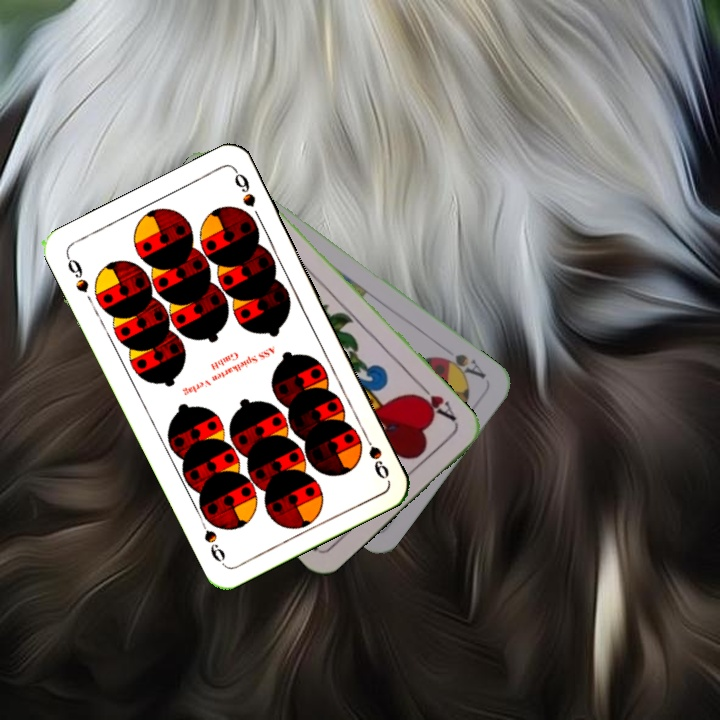HA: (410, 378, 459, 424)
S9: (358, 427, 392, 482), (62, 251, 92, 296)
SA: (433, 349, 489, 382)
